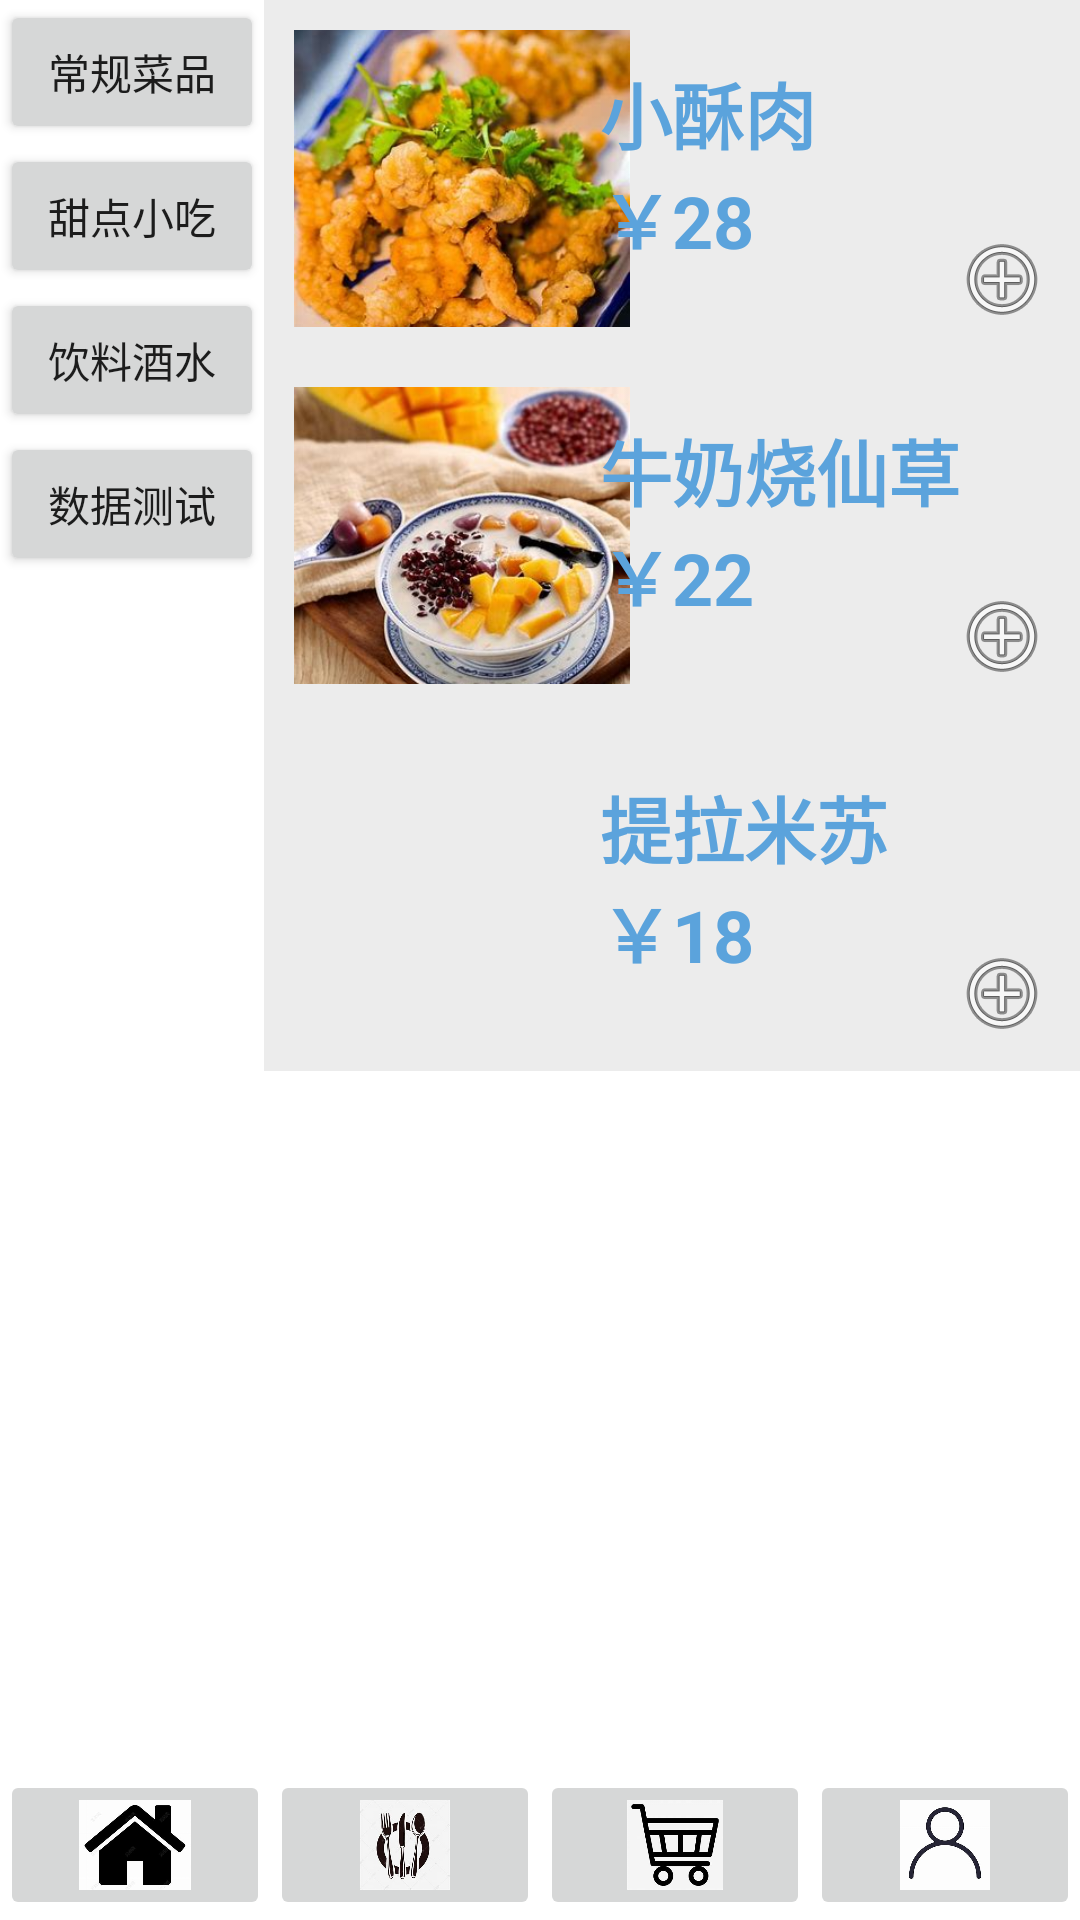

Point at icon controls on the screen. Image size 1080x1920, points as (x=x, y=y).
add: (x=1002, y=279), (x=1002, y=636), (x=1002, y=993)
homeimage: (x=135, y=1845)
